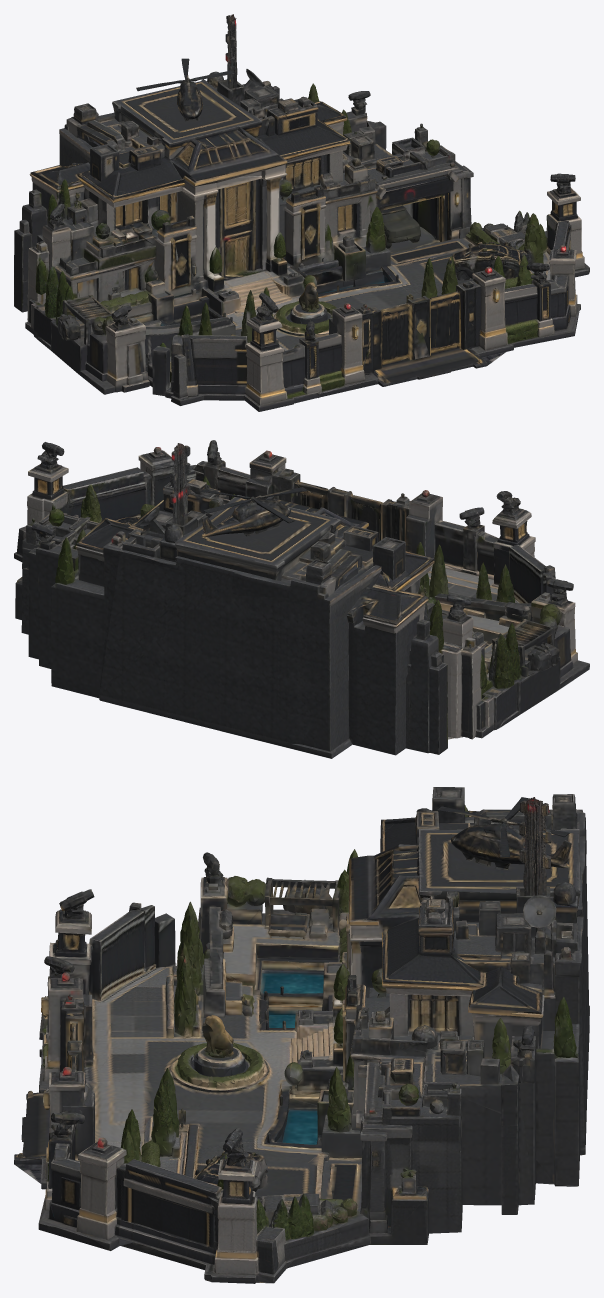
Rendered from HQ_Mobile.glb.
3 renders of one model, top to bottom at view 1: azimuth 30°, elevation 25°; view 2: azimuth 150°, elevation 25°; view 3: azimuth 270°, elevation 25°, orthographic. The views are drawn at different scales.
Parts seen in each view (by area): view 1: output_unwrapped; view 2: output_unwrapped; view 3: output_unwrapped.
Boxes of the visible parts, x1,y1,x2,y2 form: output_unwrapped: (14,14,589,411); output_unwrapped: (14,440,589,758); output_unwrapped: (14,787,589,1283).
Bounding box in the file's own units: 1.9 × 0.8411 × 1.36.
1 material, 1 textured.
